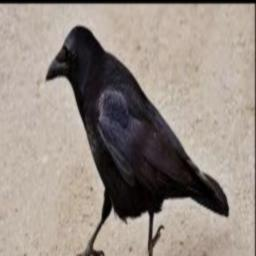Crow: (45, 25, 229, 256)
